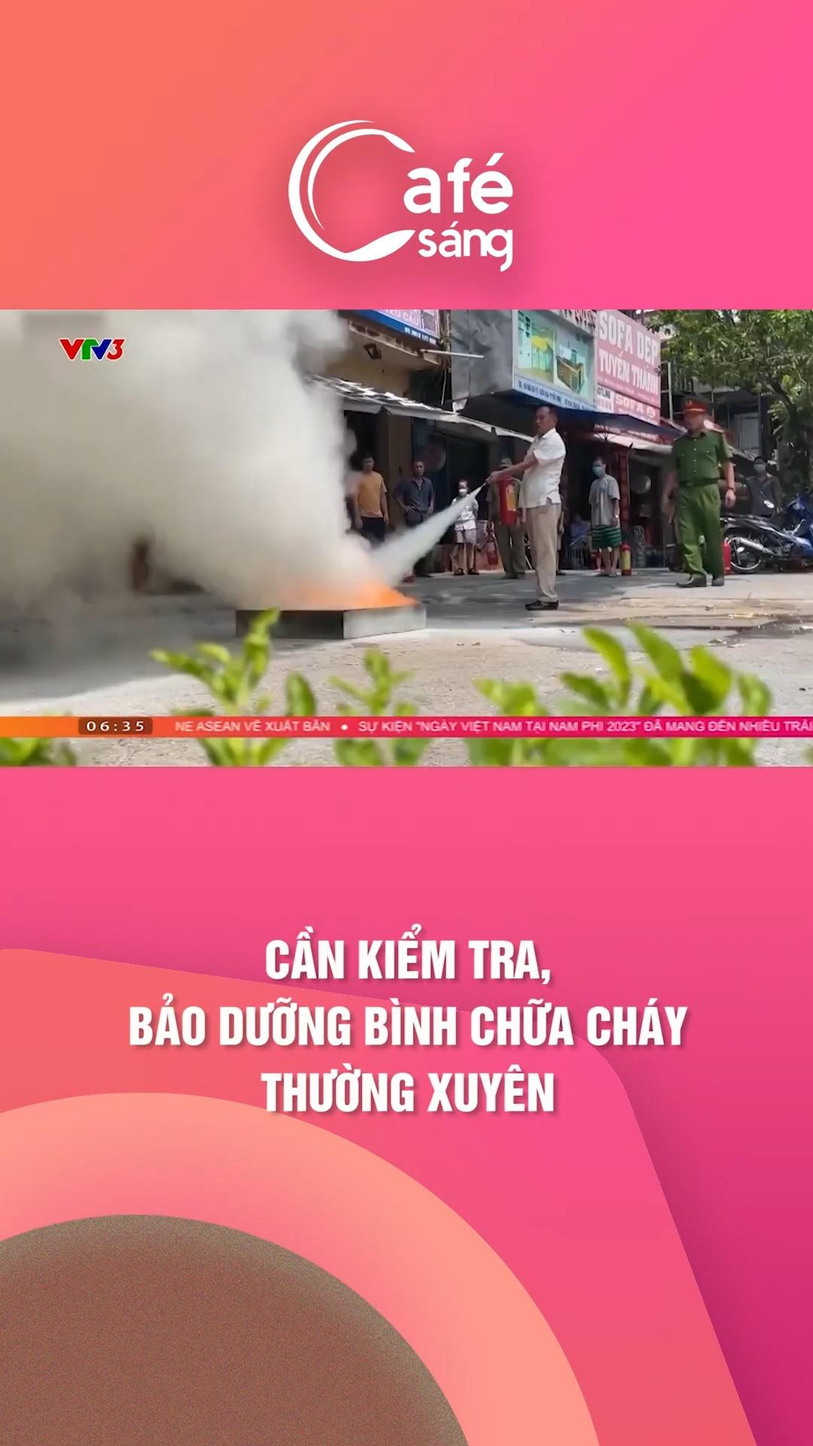FireExtinguisher: (483, 460, 527, 539)
